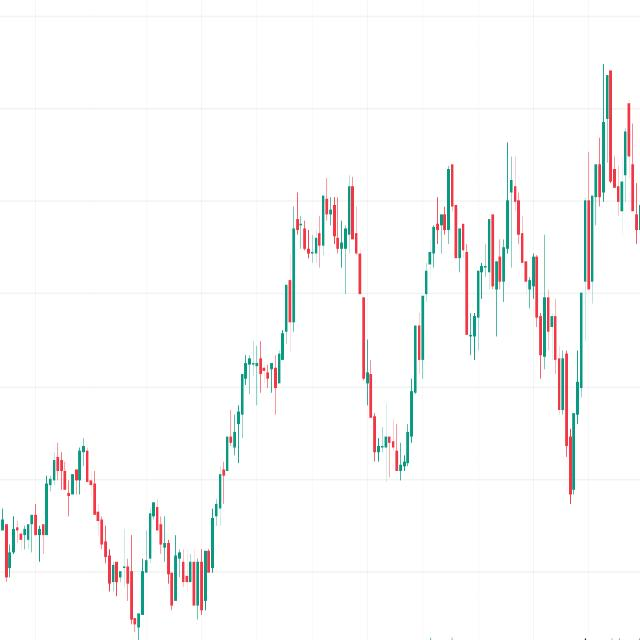Triple-Top: (285, 163, 372, 300)
